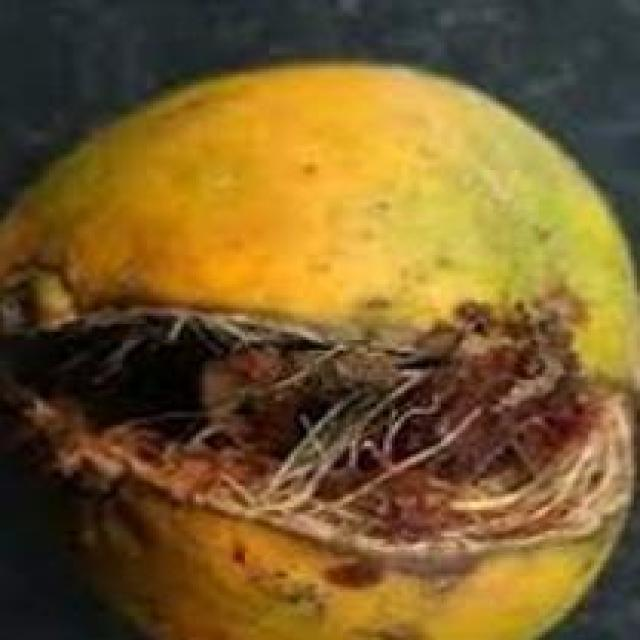damaged: (0, 61, 637, 637)
